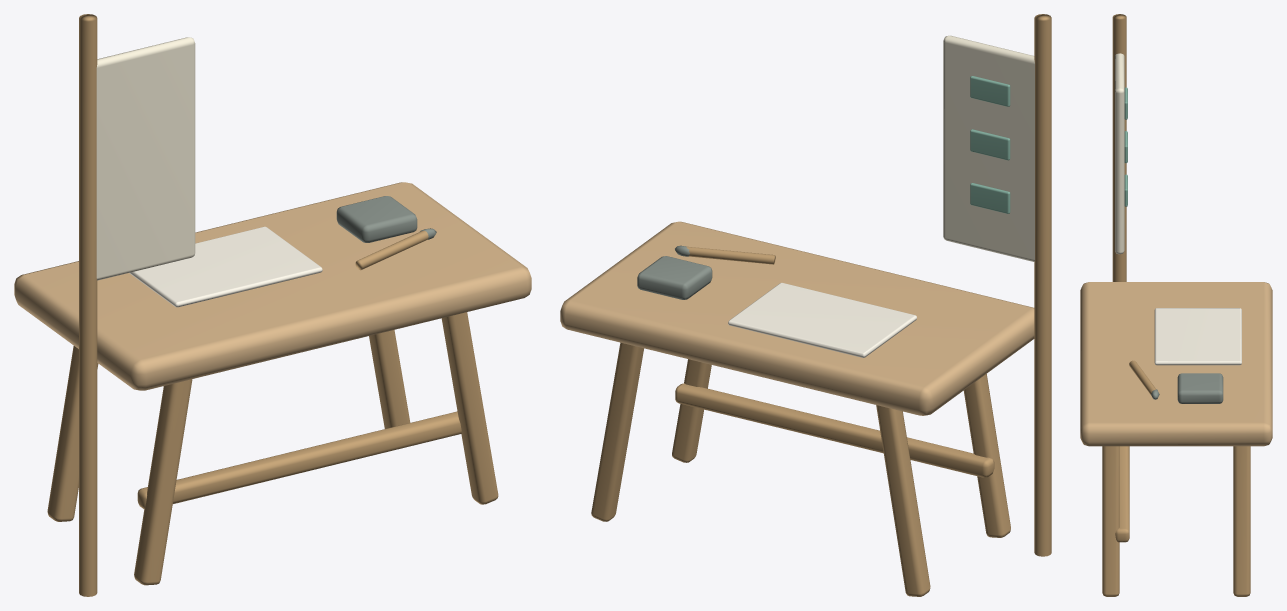
File: naming.glb
The picture shows the model from 3 angles, left to right: view 1: azimuth 30°, elevation 25°; view 2: azimuth 150°, elevation 25°; view 3: azimuth 270°, elevation 25°; orthographic projection. The views are drawn at different scales.
Size of the model in its own units: 1.72 by 2.2 by 0.88.
